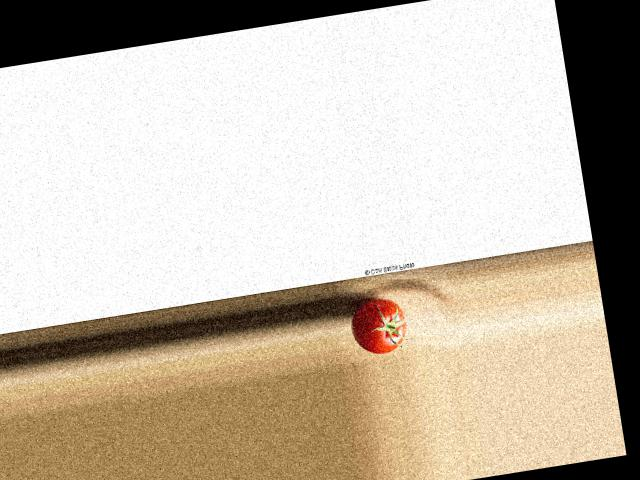tomato: (348, 295, 410, 356)
